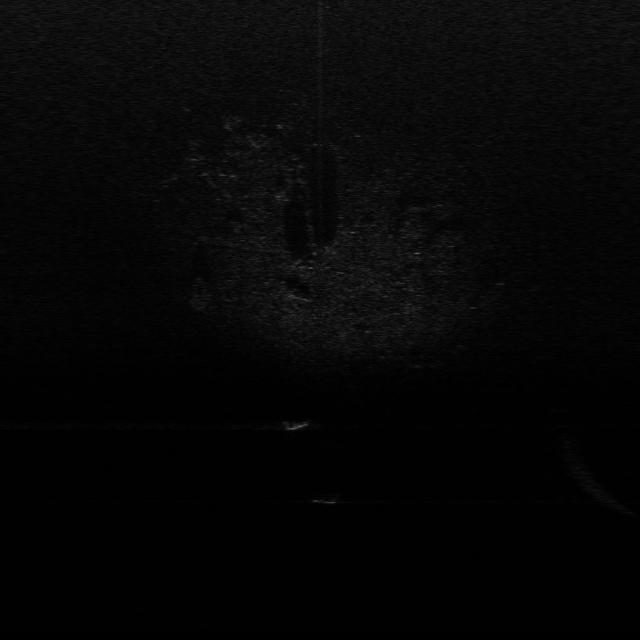cube: (308, 488, 348, 508)
square cage: (281, 412, 313, 434)
